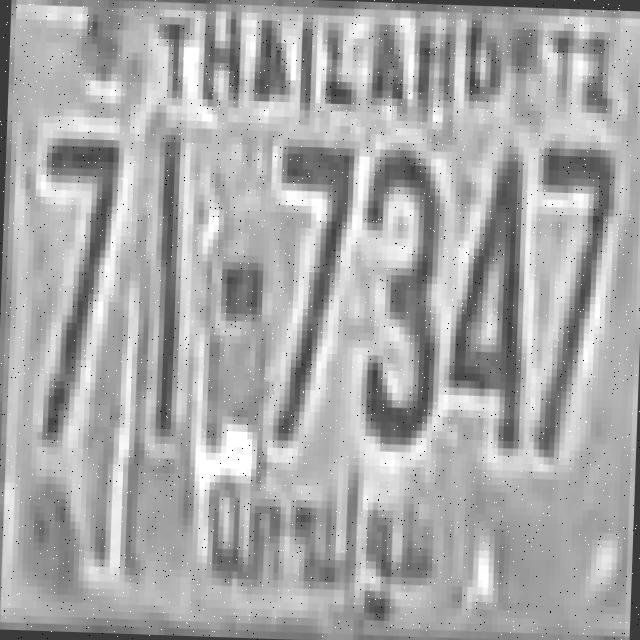3: (354, 141, 442, 438)
4: (442, 144, 524, 441)
7: (32, 130, 119, 427), (267, 134, 349, 438), (528, 140, 610, 443), (34, 130, 119, 353), (35, 130, 119, 331)
NakhonPathom: (191, 453, 448, 626)
